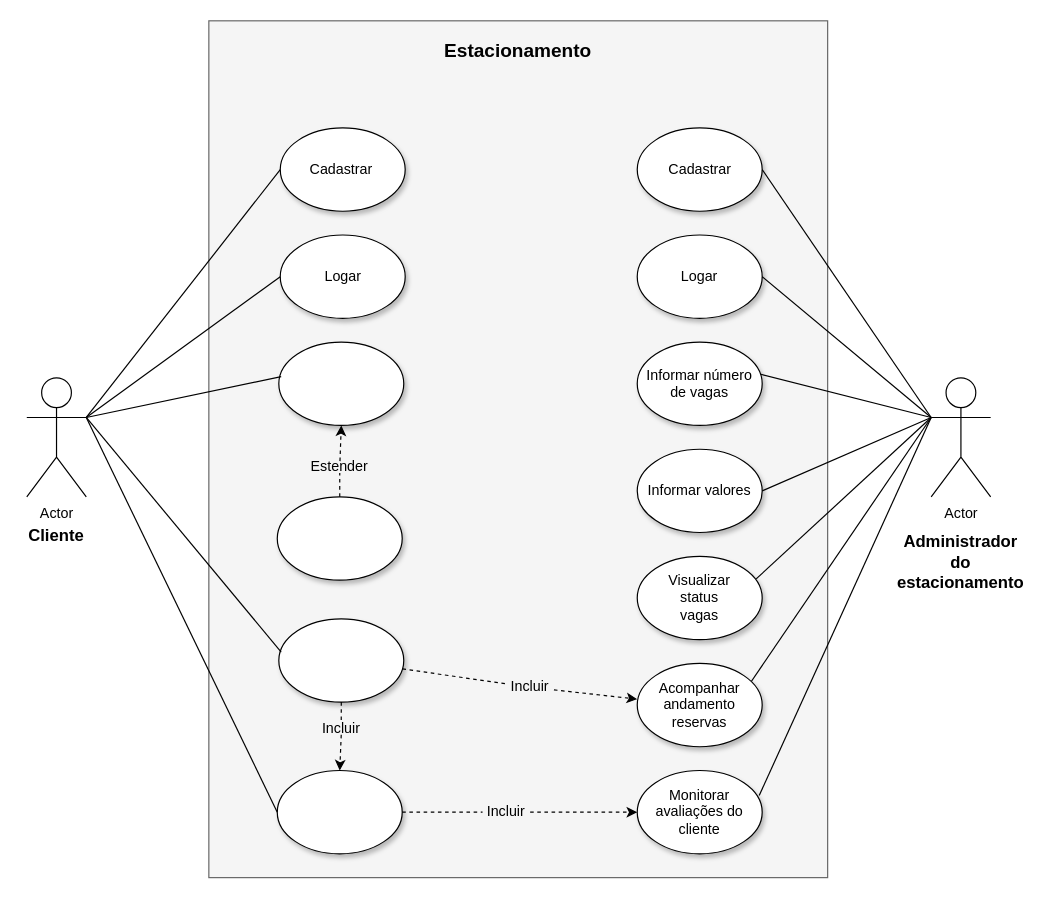
This 1045x898 diagram has some shape labels left out. Each missing label, with the centre of its shape:
"Abrir app de navegação" goes at [340,539].
"Avaliar estacionamento" goes at [340,813].
"Buscar estacionamento" goes at [342,385].
"Reservar vaga" goes at [342,661].
